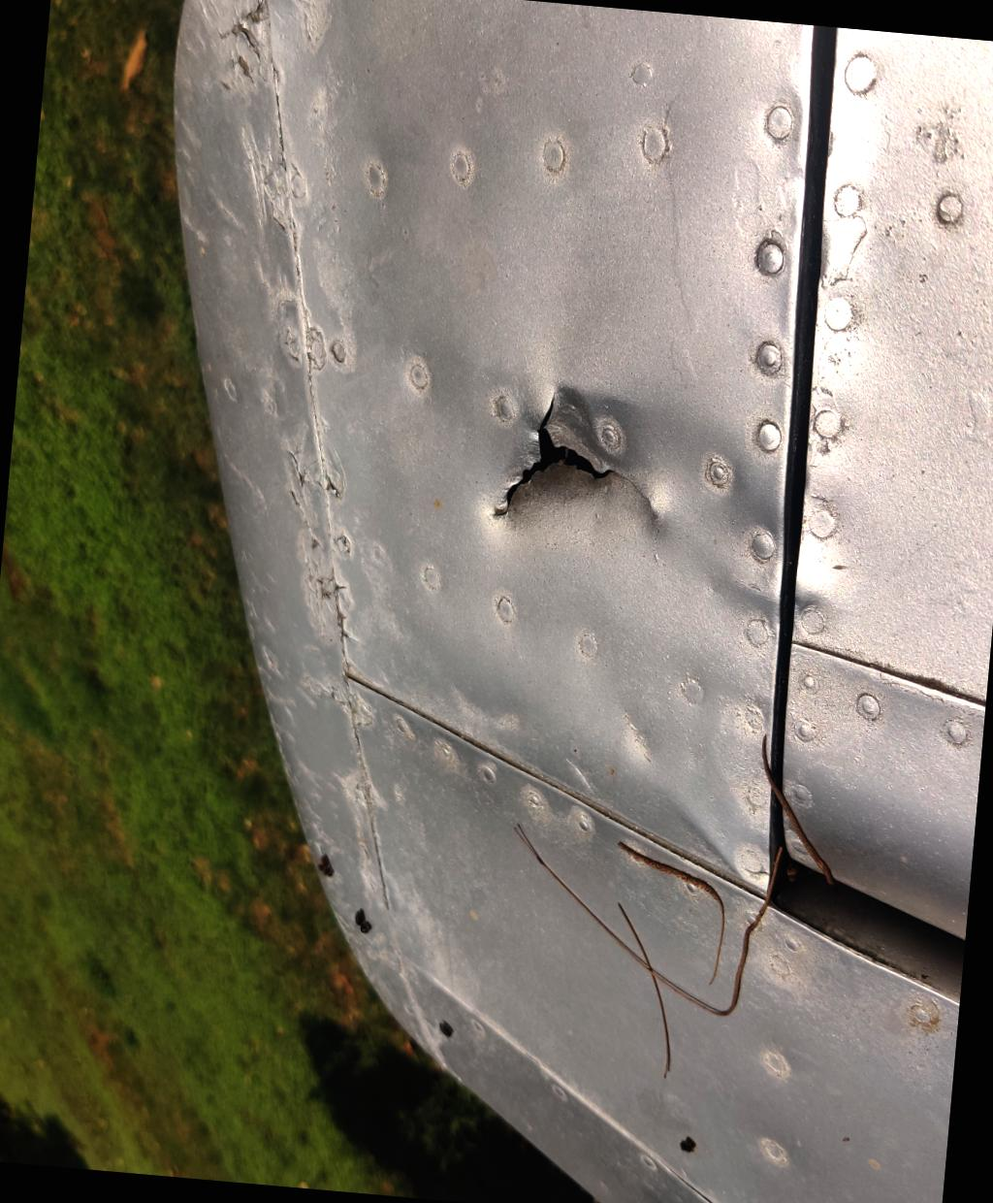crack: (305, 368, 474, 604)
